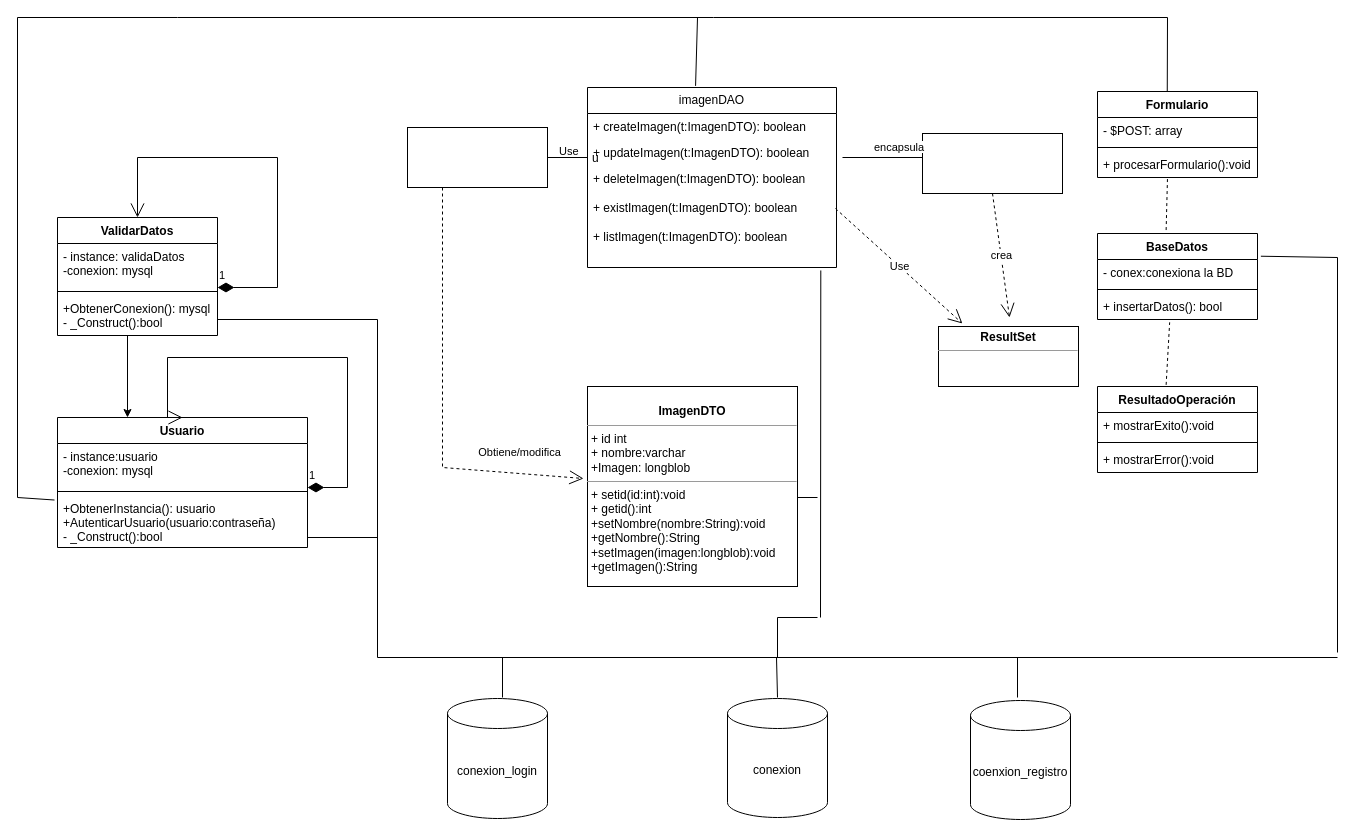
This 1356x837 diagram has some shape labels left out. The shapes that lost their labels are listed below. From the top down, each one's centre as x and y in pixels, then its label:
At point 477,157: "Business Object".
At point 992,163: "DataSource".
